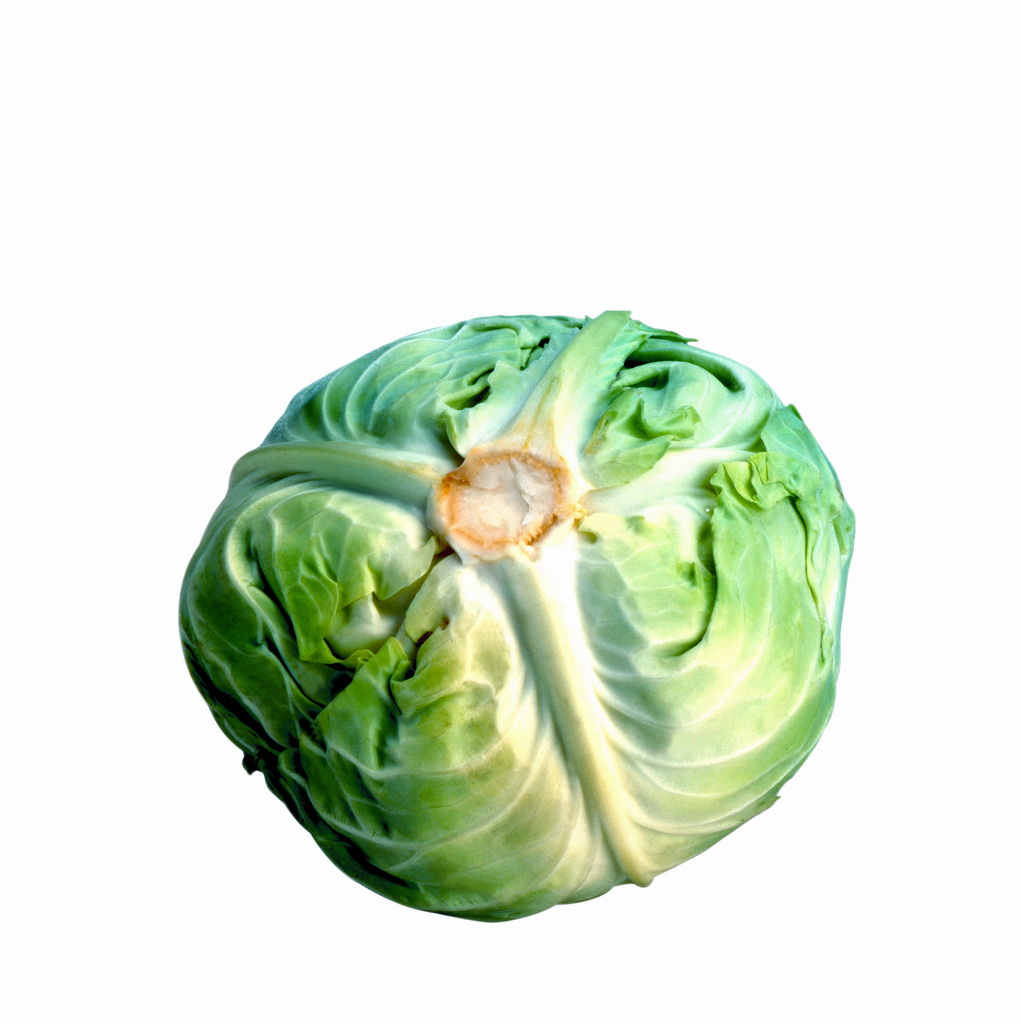cabbage: (171, 307, 861, 931)
